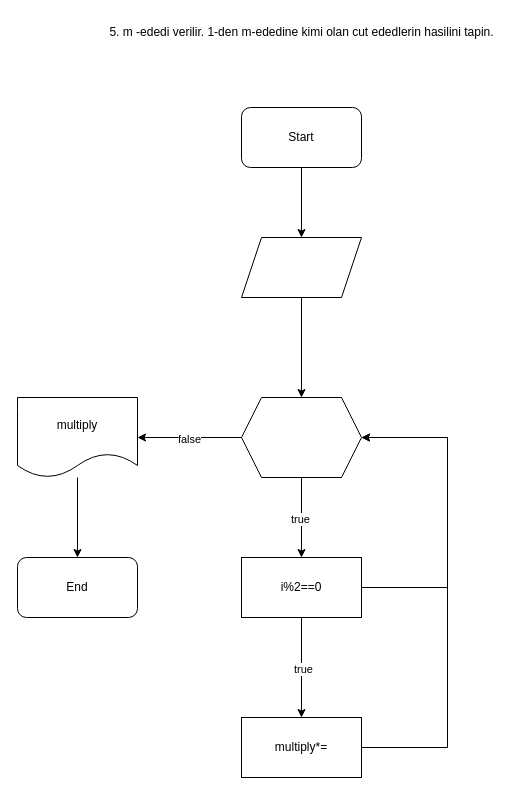
This 524x795 diagram has some shape labels left out. The centre of each missing label's shape, as x and y in pixels:
int i=1; i=m; i++: the point at 301,437
m; multiply=1: the point at 301,267
